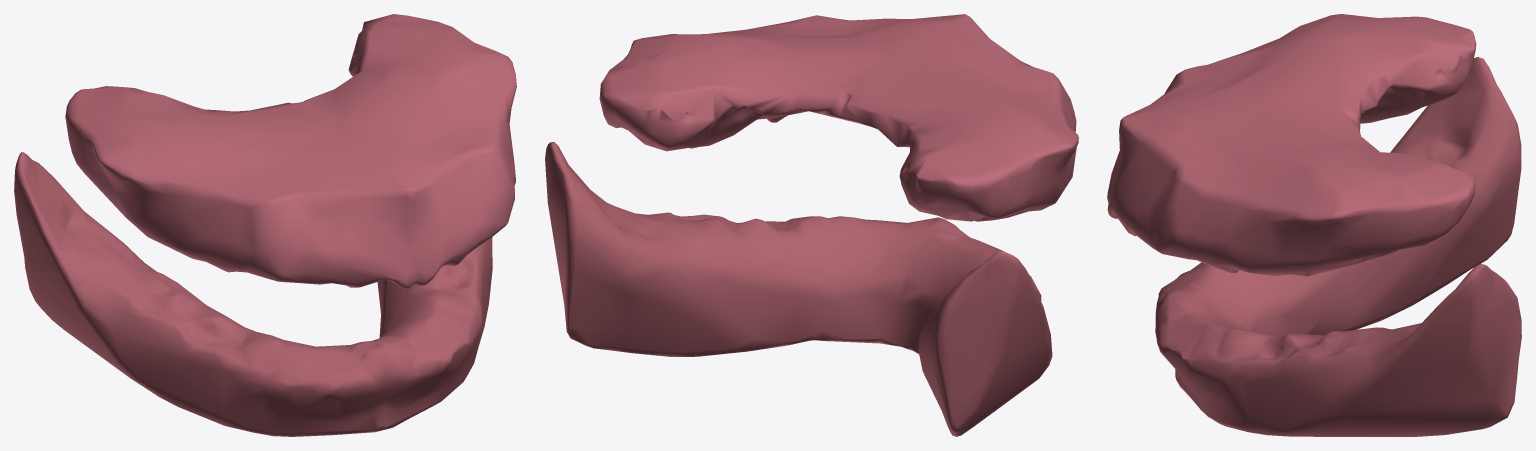
Rendered from gingiva-prototype.glb.
3 views of the same model, side by side, from view 1: azimuth 30°, elevation 25°; view 2: azimuth 150°, elevation 25°; view 3: azimuth 270°, elevation 25° (orthographic). The views are drawn at different scales.
Parts seen in each view (by area): view 1: FMA59763, FMA59764; view 2: FMA59764, FMA59763; view 3: FMA59763, FMA59764.
Boxes of the visible parts, bbox=[...] form: FMA59763: bbox=[65, 14, 516, 289]; FMA59764: bbox=[14, 152, 492, 436]; FMA59764: bbox=[545, 142, 1052, 436]; FMA59763: bbox=[599, 14, 1078, 221]; FMA59763: bbox=[1107, 14, 1476, 276]; FMA59764: bbox=[1155, 57, 1521, 436].
Bounding box in the file's own units: 0.7533 × 0.4567 × 0.6051.
